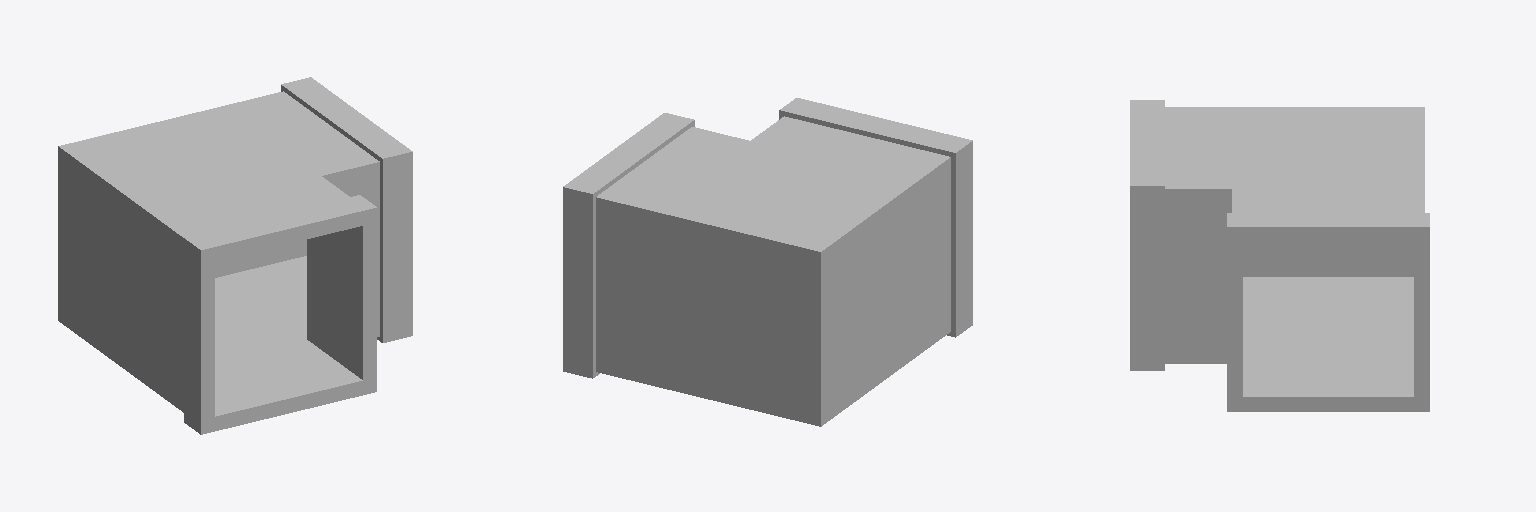
The model's file is Vent04.obj.
3 views of the same model, side by side, from view 1: azimuth 30°, elevation 25°; view 2: azimuth 150°, elevation 25°; view 3: azimuth 270°, elevation 25° (orthographic).
Parts seen in each view (by area): view 1: Vent-04_Cube.014; view 2: Vent-04_Cube.014; view 3: Vent-04_Cube.014.
Boxes of the visible parts, <box> form: Vent-04_Cube.014: <box>58,77,412,434</box>; Vent-04_Cube.014: <box>563,98,972,426</box>; Vent-04_Cube.014: <box>1130,100,1429,411</box>.
Size of the model in its own units: 2.49 by 1.69 by 2.49.